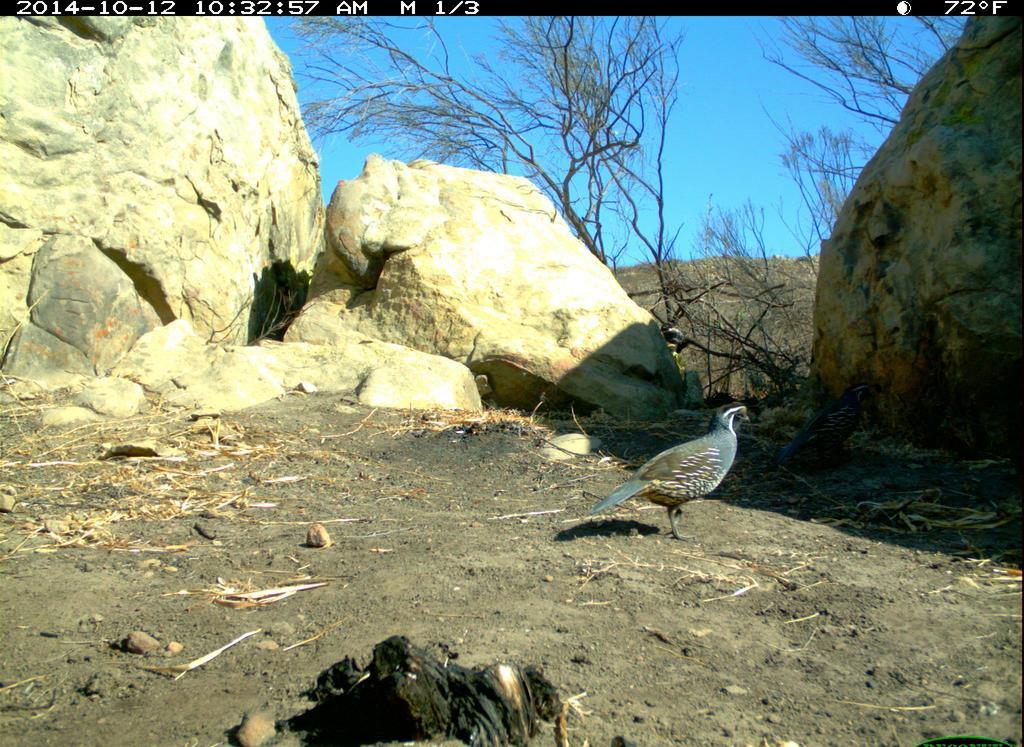bird: (583, 400, 765, 547), (777, 377, 879, 482)
